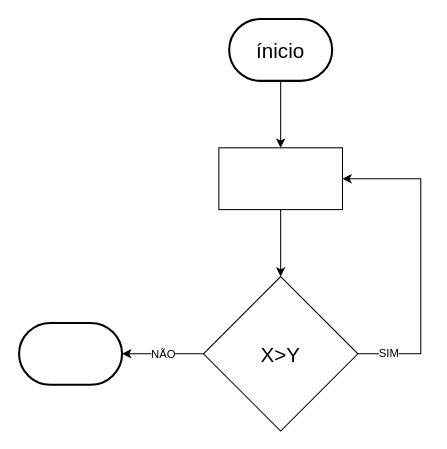
This 447x449 diagram has some shape labels left out. The box of each missing label's shape, as (x1, y1, x2, y2) in pixels:
Bloco: (218, 147, 342, 210)
Fim: (18, 321, 123, 385)
